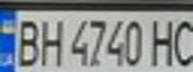0: (124, 16, 148, 68)
4: (66, 15, 90, 67), (106, 16, 127, 68)
7: (84, 16, 109, 68)
B: (9, 15, 45, 67)
C: (169, 15, 193, 67)
H: (36, 15, 66, 67), (148, 16, 178, 68)
